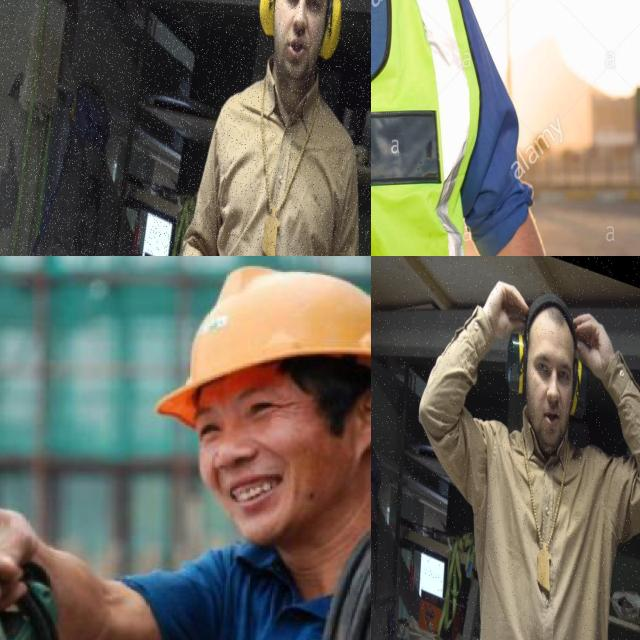Ear-protection: (503, 315, 533, 407), (317, 0, 346, 74), (257, 0, 283, 46)
No_Ear-Protection: (345, 394, 371, 449)
No_Glasses: (189, 382, 335, 444), (533, 348, 573, 391)
face_nomask: (199, 431, 360, 546)
hand_noglove: (0, 512, 39, 606)
head_helmet: (156, 266, 371, 426)
person: (371, 0, 536, 256)
vest: (371, 0, 474, 256)
